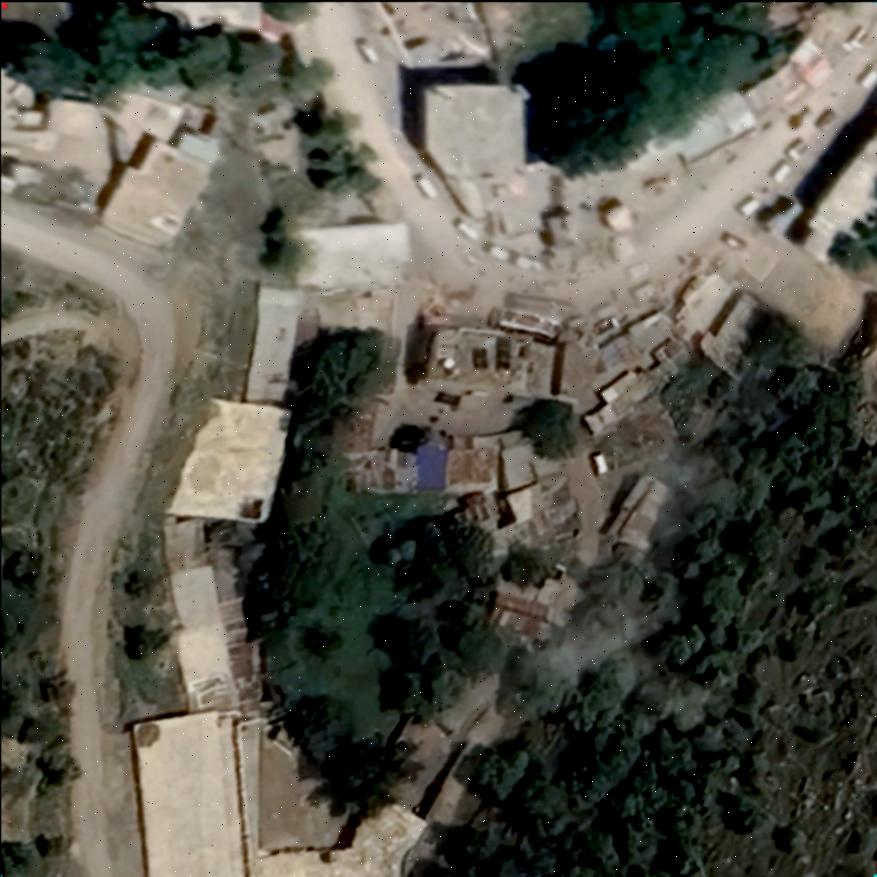Solarpanel: (494, 334, 511, 369), (470, 345, 490, 369)
